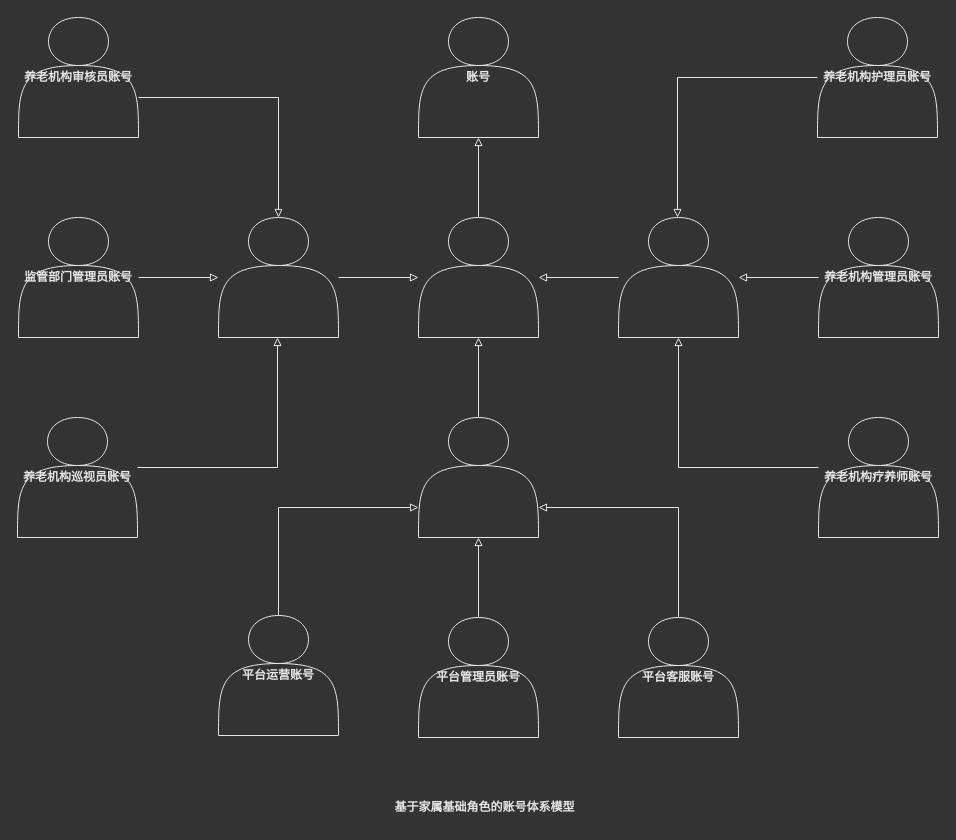
Image size: 956x840. Some labels were removed from this diagram. The shapes that lost their labels are listed below. From the top down, each one's centre as x and y in pixels, then its label:
the point at 278,277: 监管账号
the point at 478,277: 家属账号
the point at 678,277: 养老机构账号
the point at 478,477: 平台账号
